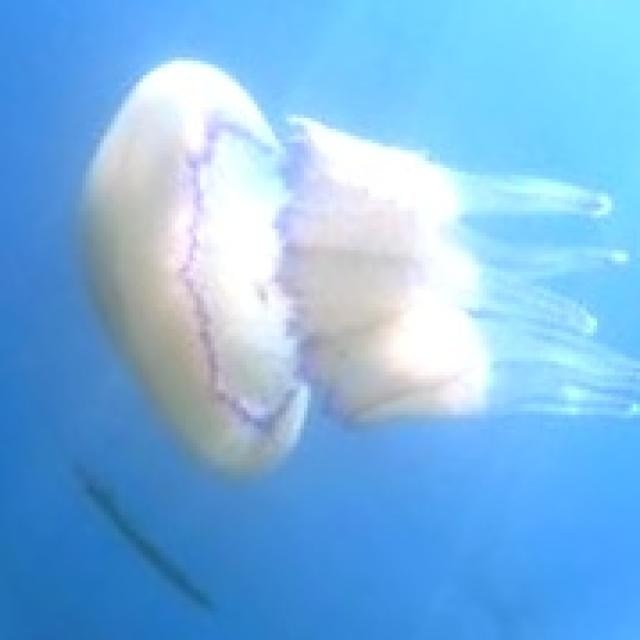Box-jellyfish: (75, 54, 637, 479)
